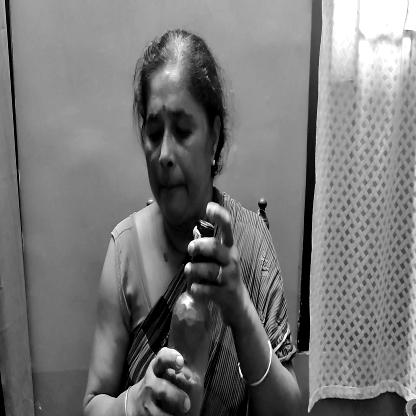Distracted: (135, 38, 224, 233)
